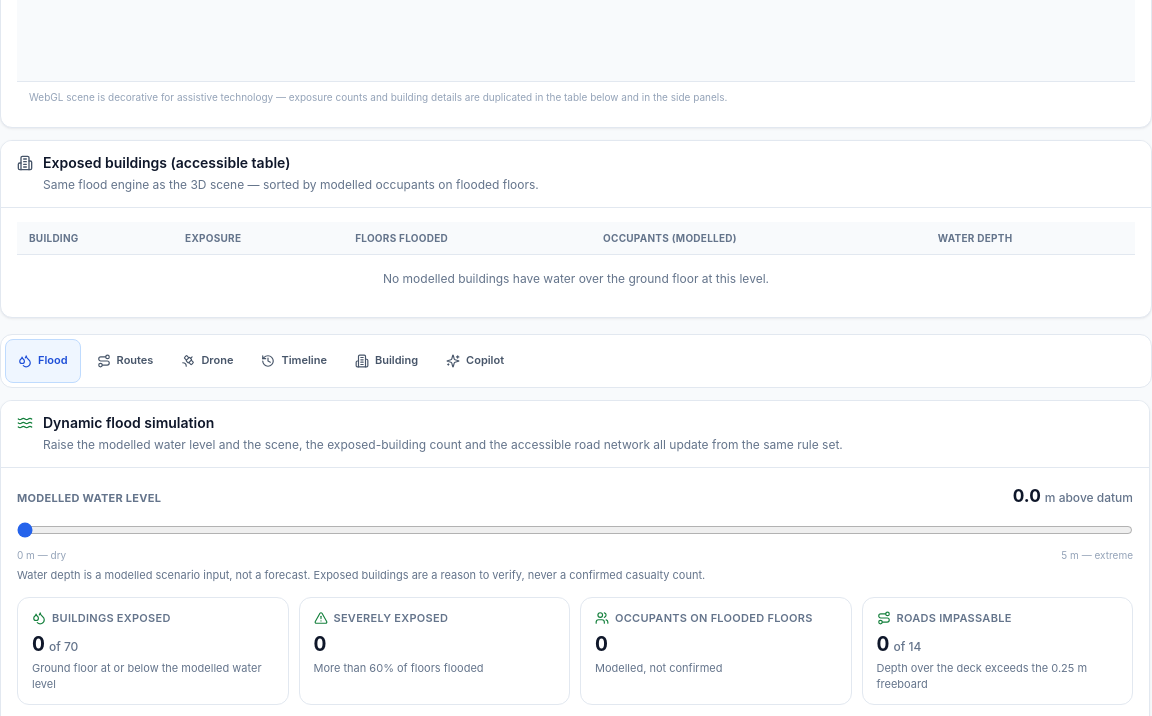
Scenario: TwinDisasterView › answers the copilot from simulation state
This screenshot has width=1152, height=716.
(page scrolled)
What coordinates should you click on to do the following:
click the button "Copilot"
I would click on:
 (475, 360)
Its box is [434,338,516,382].
(page scrolled)
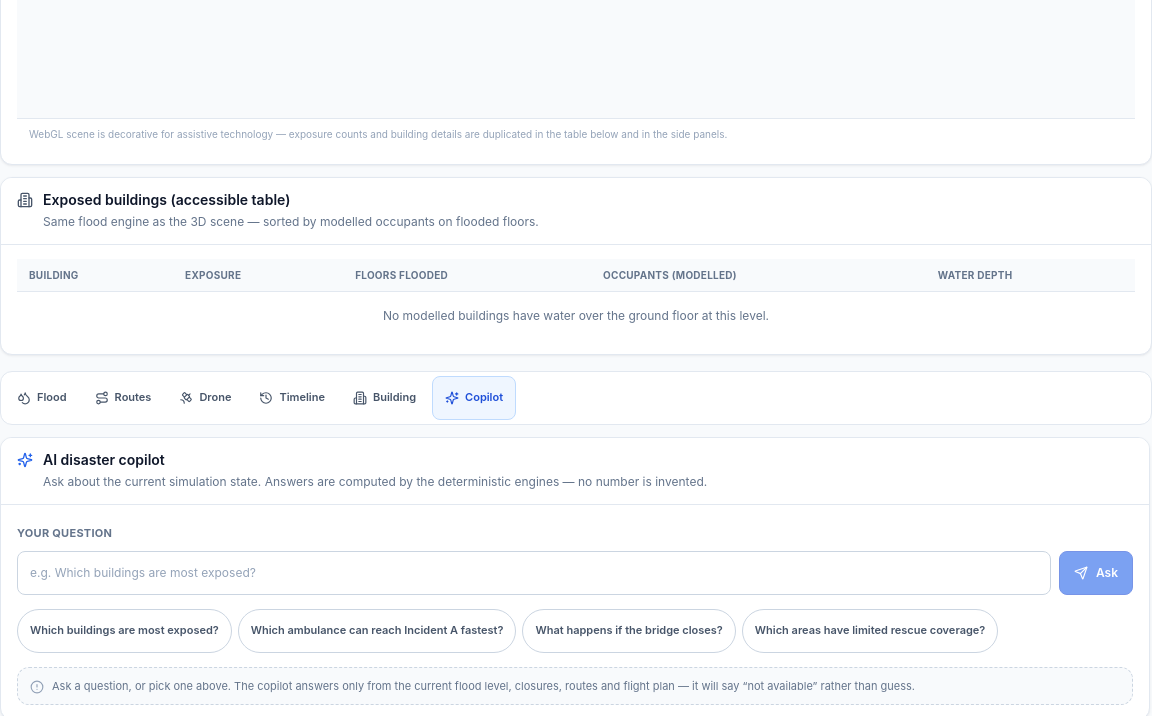
What coordinates should you click on to do the following:
click the button "Which buildings are most exposed?"
I would click on:
 (124, 630)
Its box is [17,608,232,652].
(page scrolled)
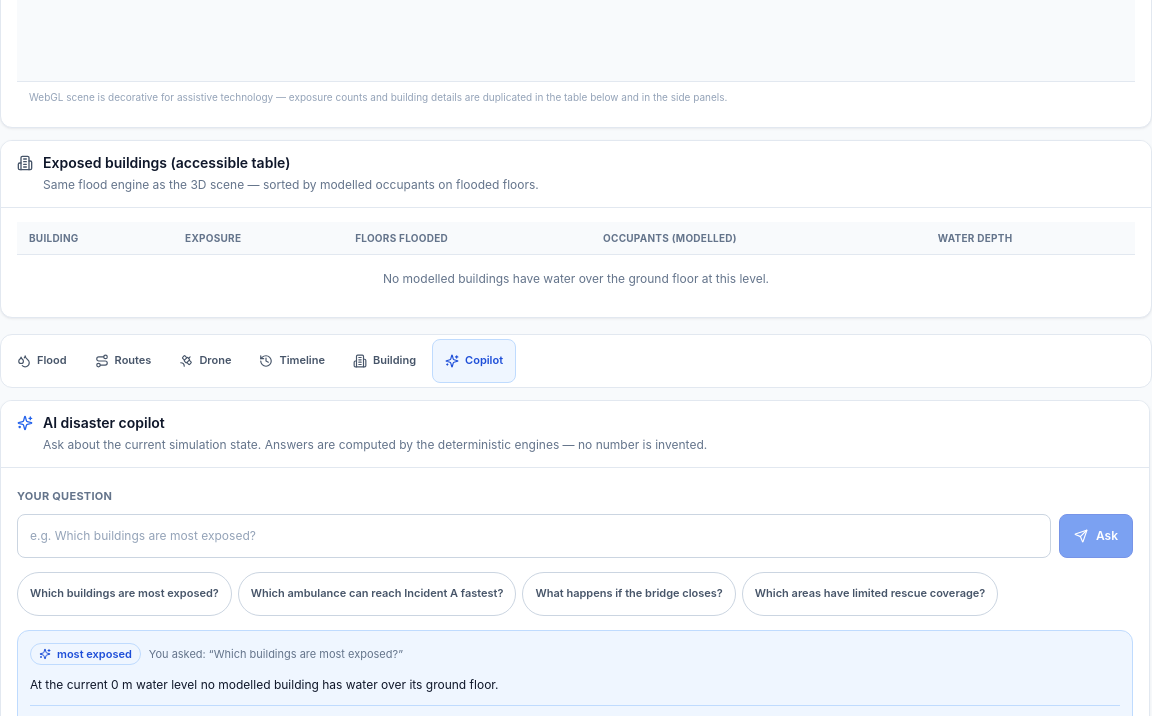
Result: the text with test id "twin-copilot-answer" is shown at [30,677,498,692]
